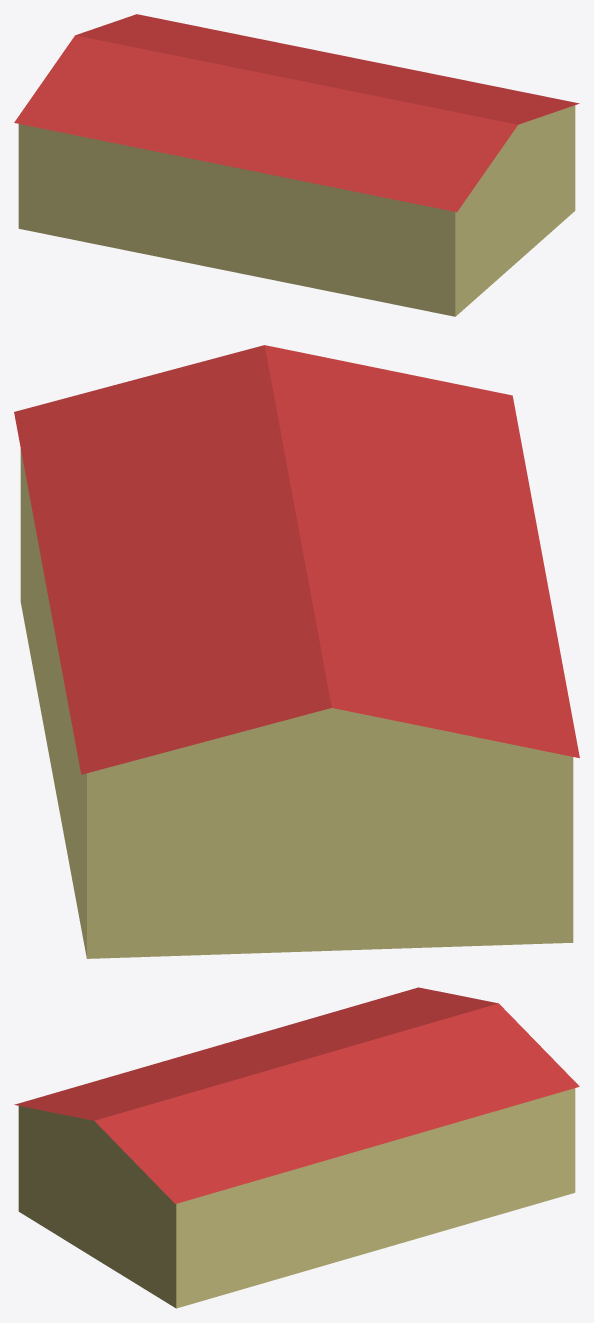
3 renders of one model, top to bottom at view 1: azimuth 30°, elevation 25°; view 2: azimuth 150°, elevation 25°; view 3: azimuth 270°, elevation 25°, orthographic. The views are drawn at different scales.
Bounding box in the file's own units: 36.94 × 40.76 × 11.12.
